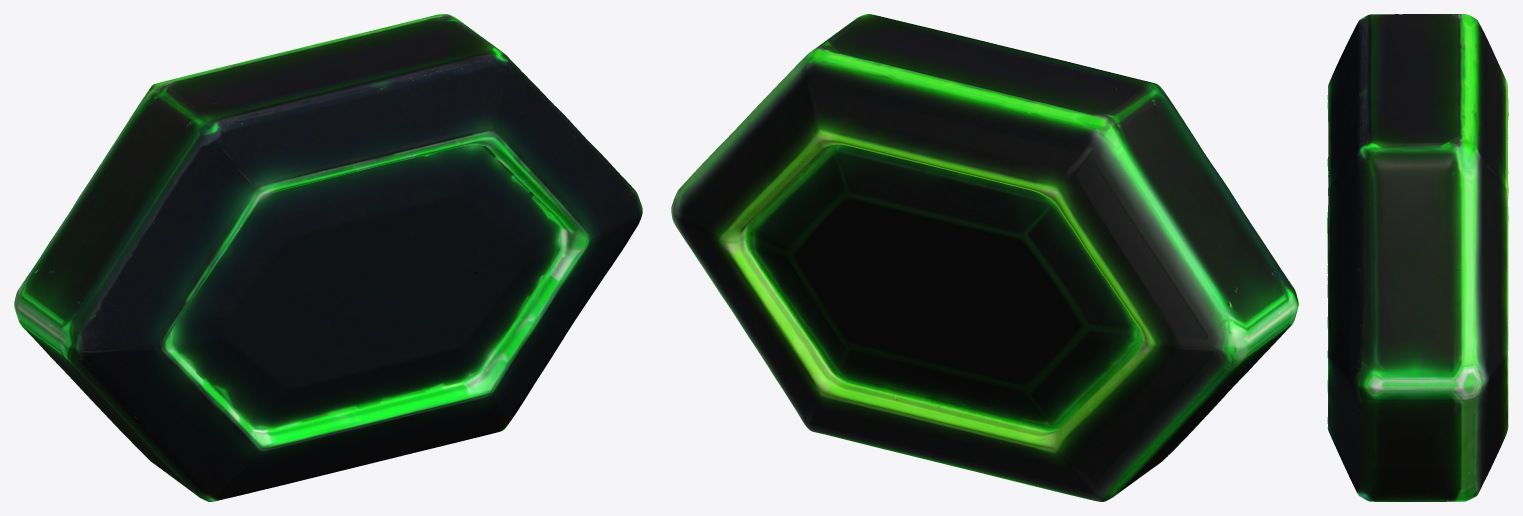
The model's file is moneda.glb.
3 renders of one model, left to right at view 1: azimuth 30°, elevation 25°; view 2: azimuth 150°, elevation 25°; view 3: azimuth 270°, elevation 25°, orthographic. The views are drawn at different scales.
Bounding box in the file's own units: 2 × 1.27 × 0.5828.
Materials: 1 (1 with a texture image).
